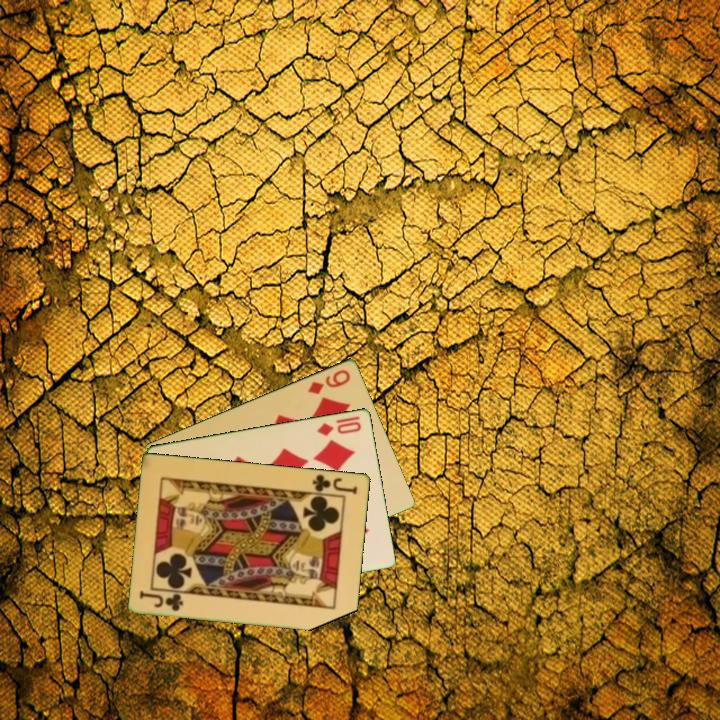10d: (314, 417, 364, 439)
9d: (304, 366, 353, 397)
Jc: (309, 471, 361, 497), (136, 587, 186, 614)
